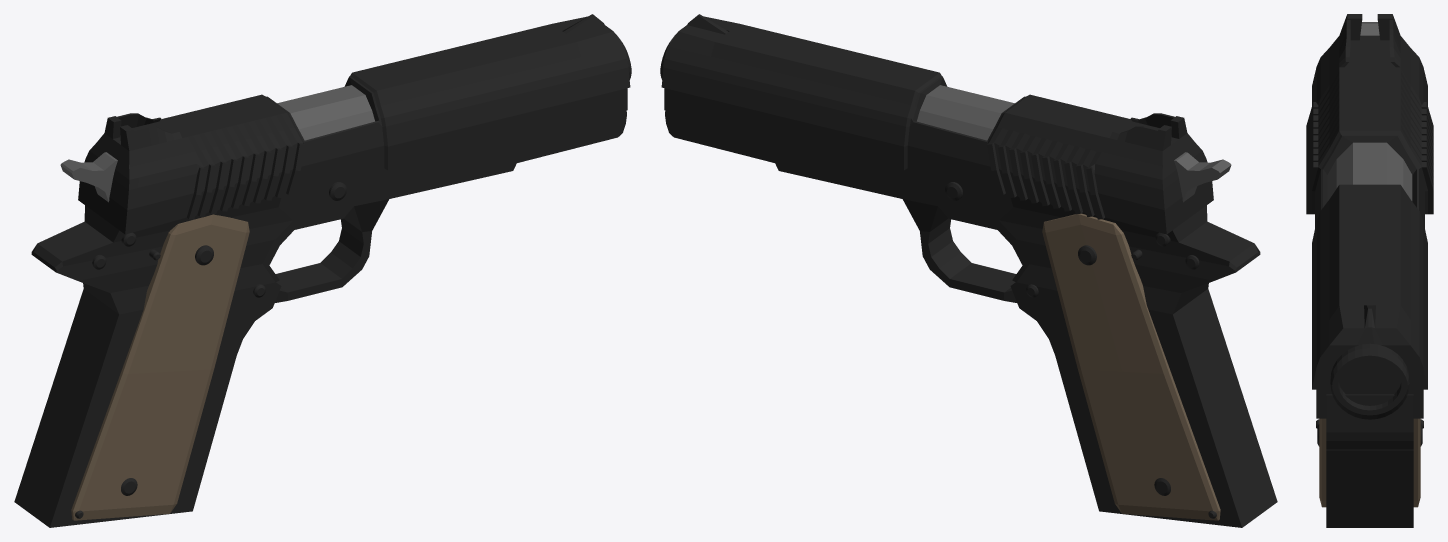
3 renders of one model, left to right at view 1: azimuth 30°, elevation 25°; view 2: azimuth 150°, elevation 25°; view 3: azimuth 270°, elevation 25°, orthographic. The views are drawn at different scales.
Parts seen in each view (by area): view 1: Cube; view 2: Cube; view 3: Cube.
Part boxes in pixels (bbox=[...]): Cube: bbox=[14, 14, 631, 527]; Cube: bbox=[660, 14, 1277, 527]; Cube: bbox=[1306, 14, 1433, 527].
Size of the model in its own units: 134 by 879 by 558.
